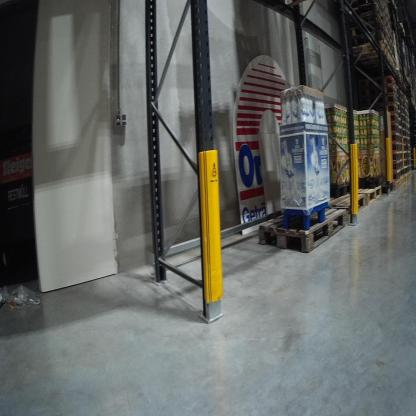pallet: (252, 202, 352, 254), (321, 191, 369, 217), (341, 40, 388, 60), (347, 183, 384, 204), (348, 32, 389, 47), (372, 75, 398, 89), (380, 92, 397, 108), (380, 83, 396, 95), (386, 113, 398, 126), (388, 123, 402, 134), (390, 181, 401, 195), (391, 151, 400, 163), (386, 106, 400, 113), (392, 170, 400, 182), (391, 131, 398, 144), (391, 141, 400, 151), (392, 163, 400, 170), (400, 177, 404, 185), (403, 174, 409, 179)
